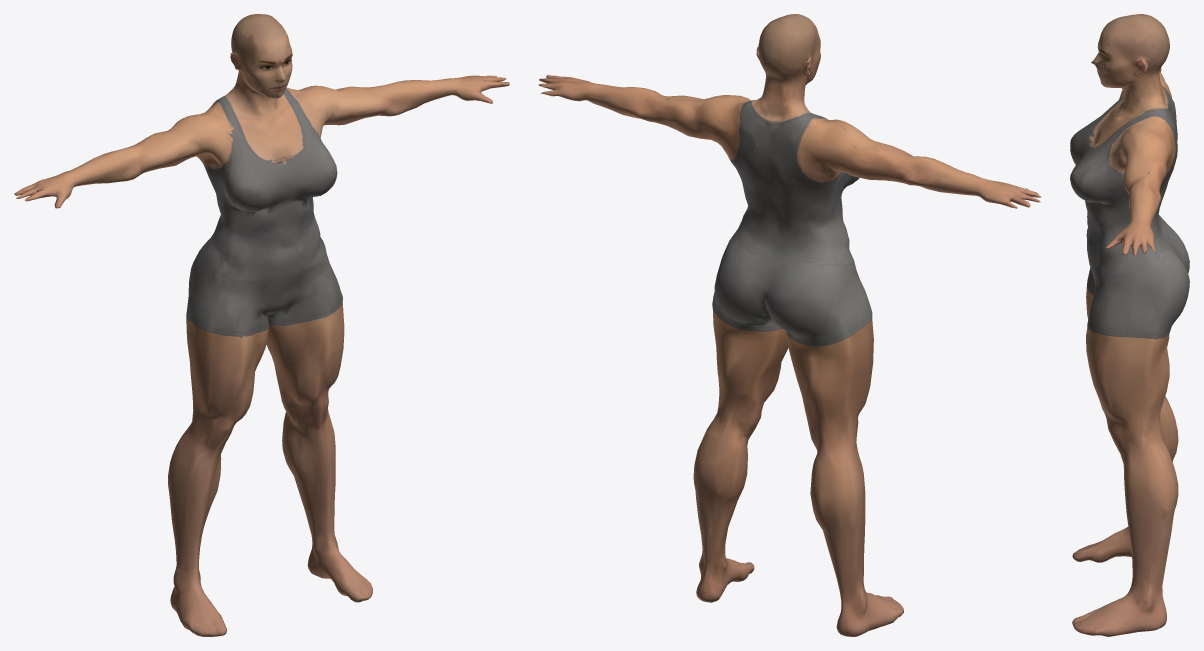
The model's file is corpo_f_mixamo.fbx.
The picture shows the model from 3 angles, left to right: view 1: azimuth 30°, elevation 25°; view 2: azimuth 150°, elevation 25°; view 3: azimuth 270°, elevation 25°; orthographic projection. The views are drawn at different scales.
Visible parts, largest first — view 1: corpo_f; view 2: corpo_f; view 3: corpo_f.
Boxes of the visible parts, left/top/right/bottom form: corpo_f: left=14, top=14, right=509, bottom=636; corpo_f: left=538, top=14, right=1040, bottom=636; corpo_f: left=1070, top=14, right=1189, bottom=636.
Size of the model in its own units: 1.63 by 1.85 by 0.347.
Materials: 1 (1 with a texture image).
